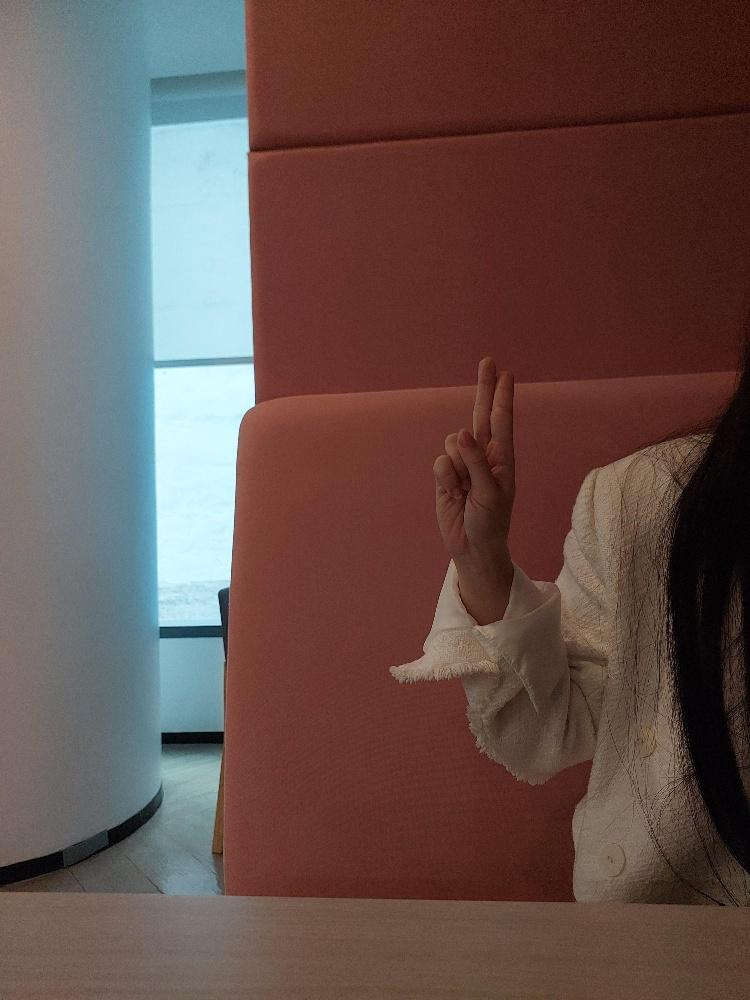u: (431, 354, 516, 556)
